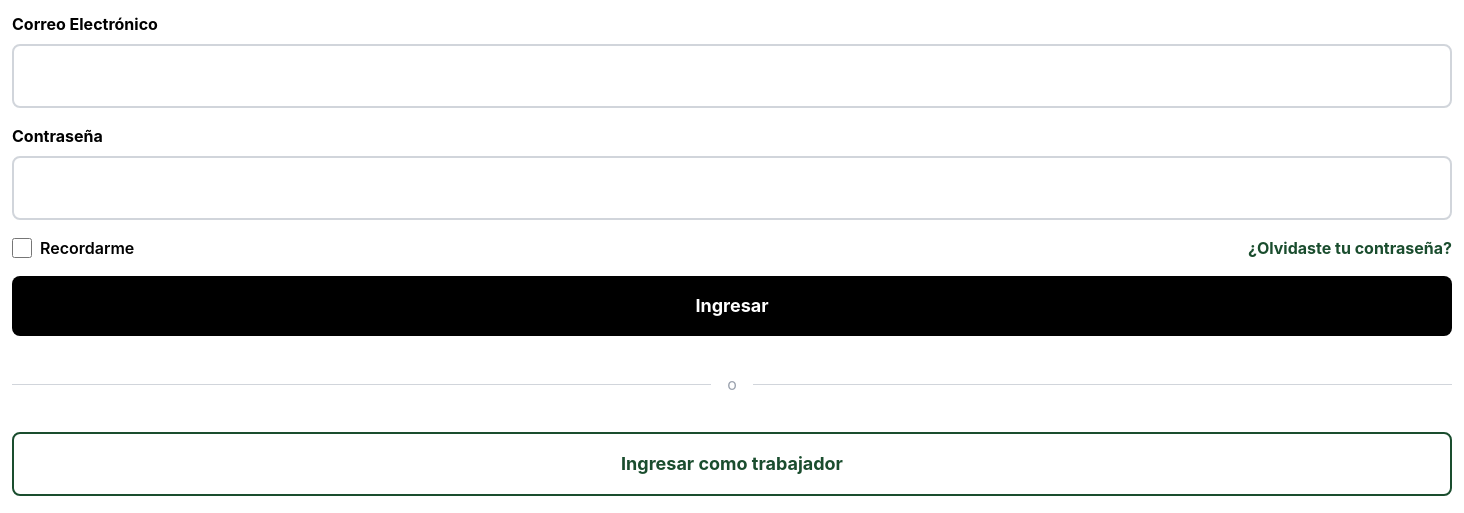
Test: TC-AUTH-07 › deshabilita el botón "Ingresar" si el email no contiene @
Type "correo-invalido.com" into the field labelled "Correo Electrónico" at [732, 76], box [12, 44, 1452, 108]
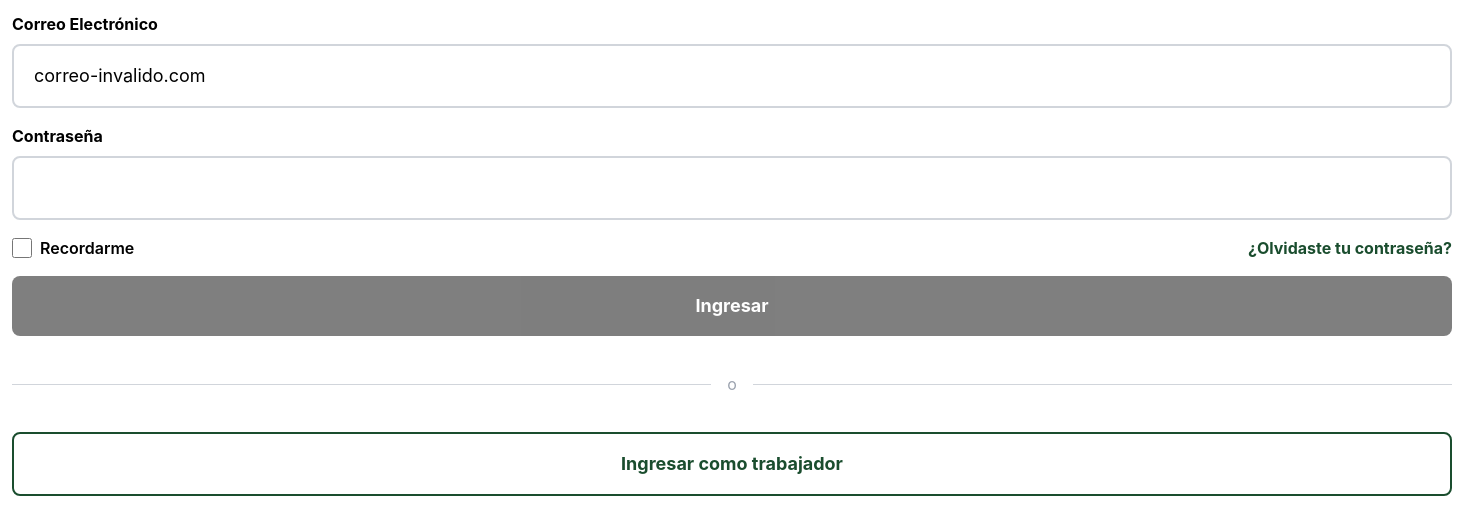
expect the button "Ingresar" is disabled: met, box [12, 276, 1452, 336]
